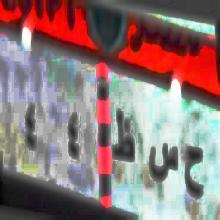4: (21, 100, 40, 156), (66, 107, 82, 166)
7aa: (184, 131, 204, 203)
Thaa: (109, 106, 136, 173)
seen: (148, 140, 179, 194)
